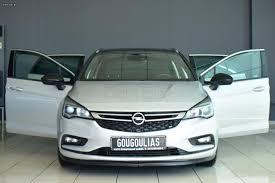opel: (131, 109, 145, 125)
